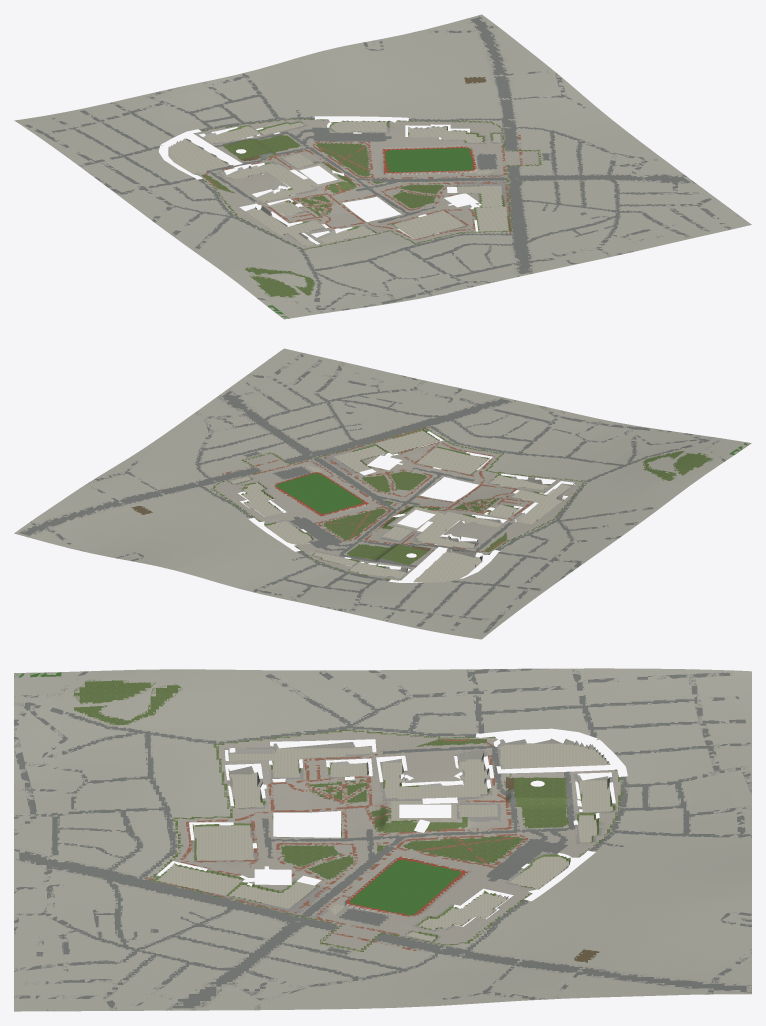
3 renders of one model, top to bottom at view 1: azimuth 30°, elevation 25°; view 2: azimuth 150°, elevation 25°; view 3: azimuth 270°, elevation 25°, orthographic. The views are drawn at different scales.
Visible parts, largest first — view 1: ground-city, ground-campusPaving, ground-asphalt, ground-placePaving, ground-asphalt-overlay, ground-grass, ground-brickPaving-overlay, ground-sportsTurf, ground-granitePaving, ground-base, ground-wood, ground-brickPaving (+6 smaller); view 2: ground-city, ground-campusPaving, ground-asphalt, ground-placePaving, ground-asphalt-overlay, ground-grass, ground-sportsTurf, ground-brickPaving-overlay, ground-granitePaving, ground-base, ground-sidewalk-overlay, ground-brickPaving (+6 smaller); view 3: ground-city, ground-campusPaving, ground-asphalt, ground-placePaving, ground-asphalt-overlay, ground-grass, ground-sportsTurf, ground-brickPaving-overlay, ground-granitePaving, ground-wood, ground-bank, ground-stonebank (+9 smaller).
Part boxes in pixels (x1,y1,x2,y2): ground-city: [14, 14, 751, 319]; ground-campusPaving: [194, 119, 539, 249]; ground-asphalt: [26, 17, 693, 310]; ground-placePaving: [168, 121, 508, 245]; ground-asphalt-overlay: [24, 16, 737, 314]; ground-grass: [253, 135, 443, 216]; ground-brickPaving-overlay: [204, 135, 522, 239]; ground-sportsTurf: [386, 148, 473, 171]; ground-granitePaving: [196, 120, 509, 246]; ground-base: [193, 118, 542, 250]; ground-wood: [201, 174, 314, 297]; ground-brickPaving: [206, 141, 522, 239]; ground-city: [14, 348, 751, 639]; ground-campusPaving: [214, 440, 583, 579]; ground-asphalt: [20, 368, 709, 632]; ground-placePaving: [230, 430, 570, 582]; ground-asphalt-overlay: [16, 353, 725, 632]; ground-grass: [323, 471, 499, 559]; ground-sportsTurf: [277, 473, 362, 513]; ground-brickPaving-overlay: [222, 427, 533, 552]; ground-granitePaving: [227, 429, 575, 577]; ground-base: [211, 427, 585, 580]; ground-sidewalk-overlay: [14, 388, 519, 537]; ground-brickPaving: [253, 427, 526, 551]; ground-city: [14, 668, 751, 1011]; ground-campusPaving: [172, 731, 620, 950]; ground-asphalt: [19, 672, 746, 1008]; ground-placePaving: [156, 743, 613, 941]; ground-asphalt-overlay: [14, 668, 751, 1011]; ground-grass: [282, 781, 568, 878]; ground-sportsTurf: [350, 860, 459, 914]; ground-brickPaving-overlay: [144, 739, 527, 950]; ground-granitePaving: [153, 739, 615, 941]; ground-wood: [74, 680, 486, 745]; ground-bank: [153, 761, 615, 941]; ground-stonebank: [167, 738, 610, 914].
Bounding box in the file's own units: 540 × 25.17 × 540.
Materials: 39 (39 with a texture image).
